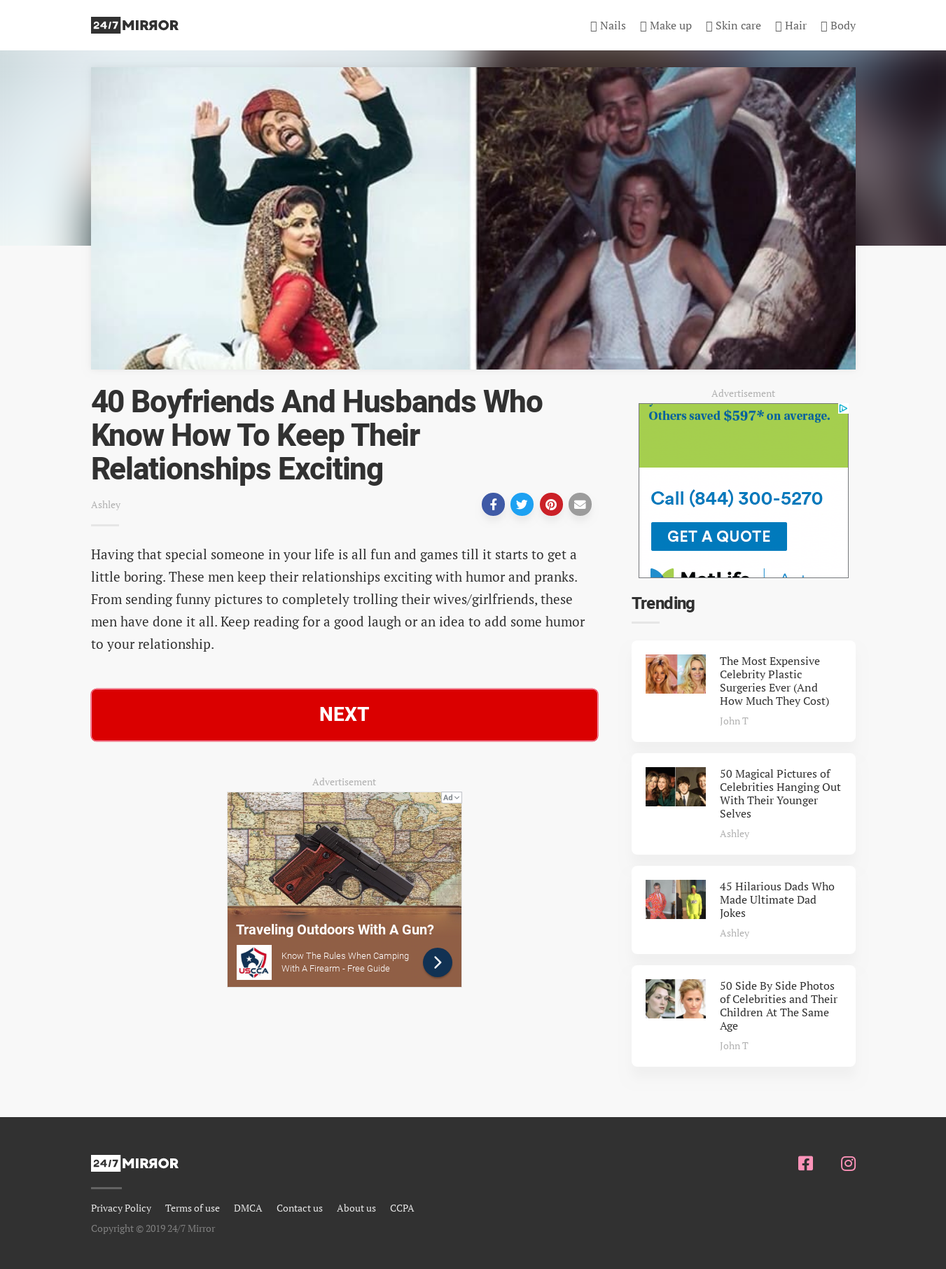fake_button: (67, 654, 616, 766)
